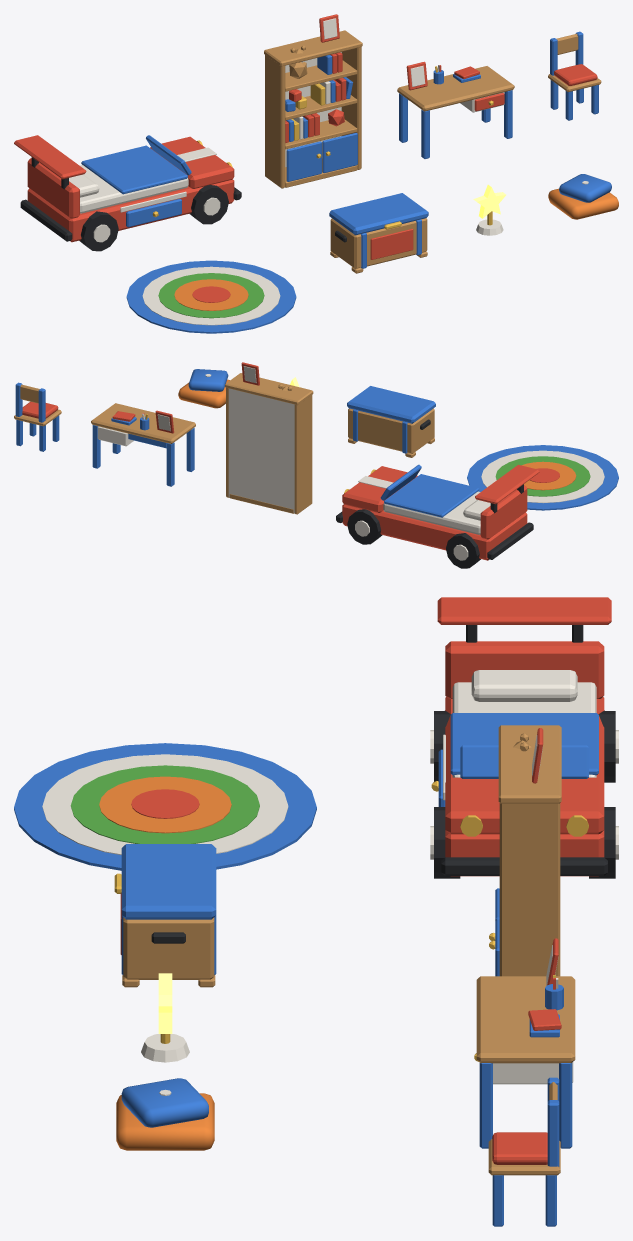
Rendered from kids-race-car-bedroom.glb.
3 renders of one model, top to bottom at view 1: azimuth 30°, elevation 25°; view 2: azimuth 150°, elevation 25°; view 3: azimuth 270°, elevation 25°, orthographic. The views are drawn at different scales.
Visible parts, largest first — view 1: Rug_Ring_0, Bed_Blanket, Rug_Ring_1, Shelf_Side_-1, Desk_Top, Lid, Bed_Chassis, Chest_Body, Rug_Ring_2, Desk, Bed_Hood, Bed_RearPanel (+24 smaller); view 2: Shelf_Back, Bed_Chassis, Rug_Ring_0, Bed_Blanket, Chest_Body, Shelf_Side_-1, Lid, Rug_Ring_1, Desk_Top, Desk, Bed_Hood, Bed_RearPanel (+18 smaller); view 3: Shelf_Side_1, Rug_Ring_0, Desk_Top, Rug_Ring_1, Lid, Rug_Ring_2, Bed_RearPanel, Chest_Body, Bed_Spoiler, Bed_Hood, Shelf_Top, Rug_Ring_3 (+19 smaller).
Part boxes in pixels (box(x1,y1,x2,y2)): Rug_Ring_0: box(126, 260, 296, 333); Bed_Blanket: box(81, 145, 187, 194); Rug_Ring_1: box(142, 266, 280, 325); Shelf_Side_-1: box(265, 55, 285, 188); Desk_Top: box(397, 66, 514, 111); Lid: box(329, 193, 428, 235); Bed_Chassis: box(27, 179, 234, 242); Chest_Body: box(330, 218, 427, 268); Rug_Ring_2: box(158, 273, 264, 318); Desk: box(399, 65, 512, 158); Bed_Hood: box(150, 136, 234, 188); Bed_RearPanel: box(27, 158, 79, 218); Shelf_Back: box(228, 388, 294, 512); Bed_Chassis: box(342, 504, 527, 560); Rug_Ring_0: box(467, 445, 618, 510); Bed_Blanket: box(384, 474, 479, 517); Chest_Body: box(348, 408, 434, 453); Shelf_Side_-1: box(294, 395, 312, 514); Lid: box(347, 386, 435, 423); Rug_Ring_1: box(481, 450, 604, 503); Desk_Top: box(91, 403, 195, 443); Desk: box(92, 411, 194, 486); Bed_Hood: box(342, 466, 417, 512); Bed_RearPanel: box(480, 485, 527, 539); Shelf_Side_1: box(499, 803, 560, 976); Rug_Ring_0: box(14, 743, 316, 870); Desk_Top: box(476, 976, 575, 1063); Rug_Ring_1: box(42, 754, 288, 854); Lid: box(121, 844, 216, 919); Rug_Ring_2: box(70, 765, 259, 843); Bed_RearPanel: box(445, 641, 604, 698); Chest_Body: box(123, 917, 214, 979); Bed_Spoiler: box(437, 597, 611, 624); Bed_Hood: box(445, 777, 604, 834); Shelf_Top: box(498, 725, 561, 803); Rug_Ring_3: box(99, 776, 231, 833).
Size of the model in its own units: 30.2 by 7.82 by 15.98.
